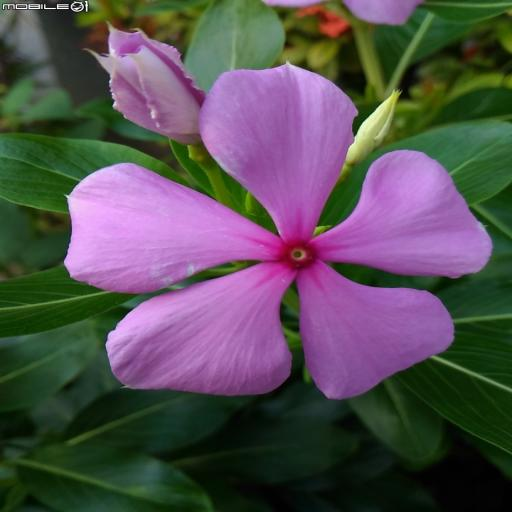Periwinkle: (50, 61, 494, 410)
